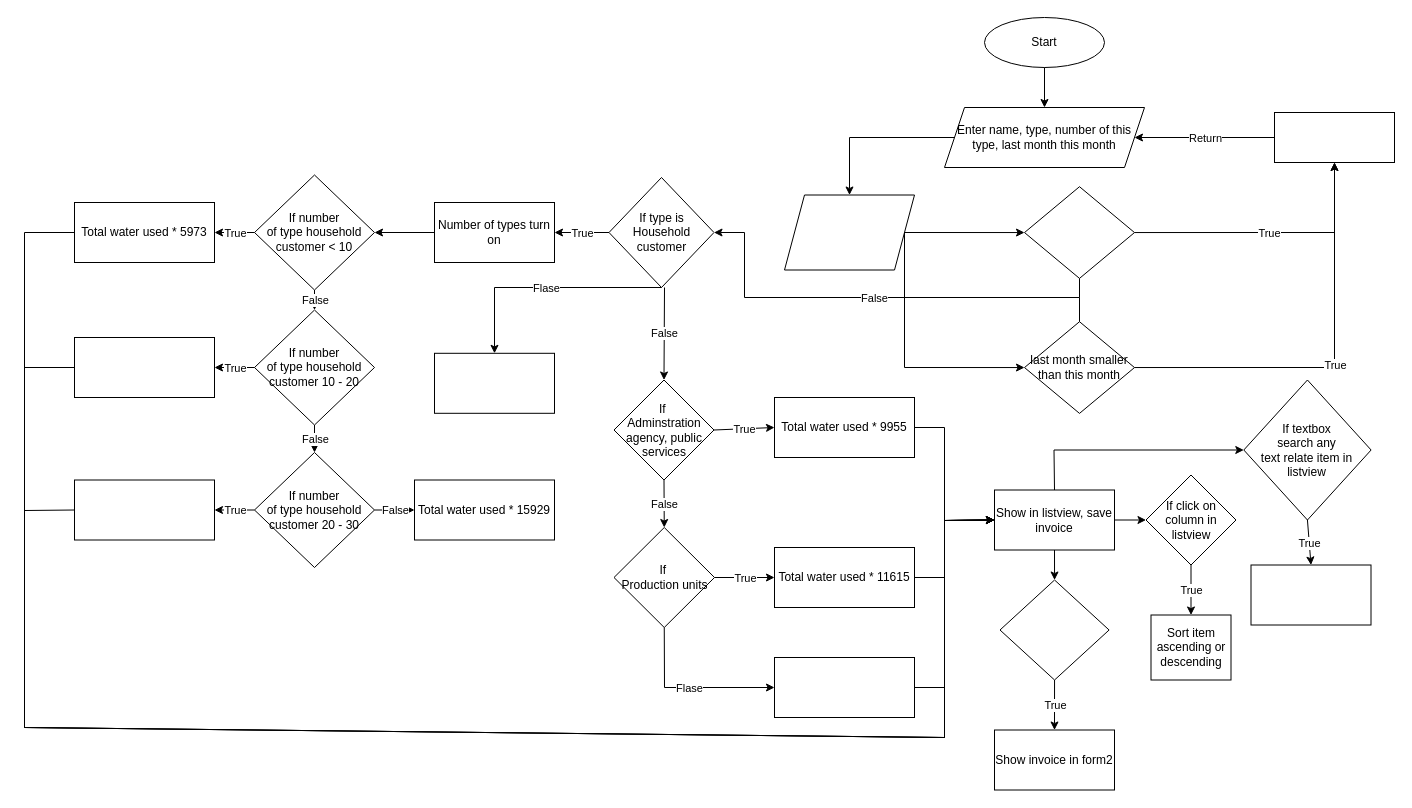
The diagram is 1412 pixels wide and 808 high, and some of its shapes have lost their labels. Each missing label, with the box of its shape:
Calculation, clear all text box: (784, 194, 914, 270)
If click on item in listview: (999, 579, 1109, 680)
If textbox except textbox search is null: (1024, 186, 1134, 278)
Number of types turn off: (434, 352, 554, 413)
Show error: (1274, 112, 1394, 162)
Show item relate textbox in search texbox: (1250, 564, 1371, 625)
Total water used * 22068: (774, 656, 914, 718)
Total water used * 7052: (74, 336, 214, 398)
Total water used * 8699: (74, 479, 214, 540)
